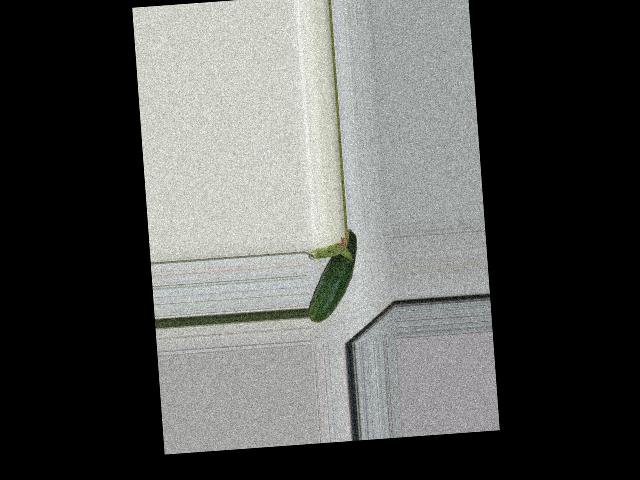cucumber: (302, 229, 361, 323)
